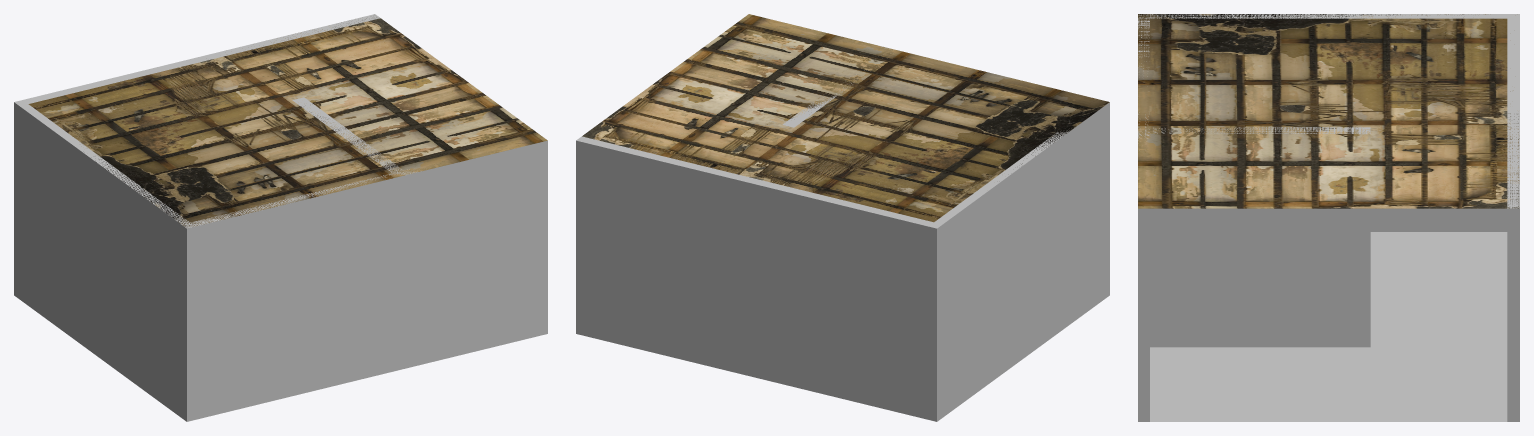
File: roach_room.FBX
3 renders of one model, left to right at view 1: azimuth 30°, elevation 25°; view 2: azimuth 150°, elevation 25°; view 3: azimuth 270°, elevation 25°, orthographic. The views are drawn at different scales.
Parts seen in each view (by area): view 1: roach_room_walls, roach_room_ceiling; view 2: roach_room_walls, roach_room_ceiling; view 3: roach_room_ceiling, roach_room_walls, roach_room_floor.
Boxes of the visible parts, bbox=[...] form: roach_room_walls: bbox=[14, 14, 547, 421]; roach_room_ceiling: bbox=[28, 17, 547, 227]; roach_room_walls: bbox=[576, 48, 1109, 421]; roach_room_ceiling: bbox=[582, 14, 1109, 222]; roach_room_ceiling: bbox=[1138, 14, 1519, 208]; roach_room_walls: bbox=[1138, 14, 1519, 421]; roach_room_floor: bbox=[1150, 232, 1507, 421].
Bounding box in the file's own units: 546 × 280 × 453.
